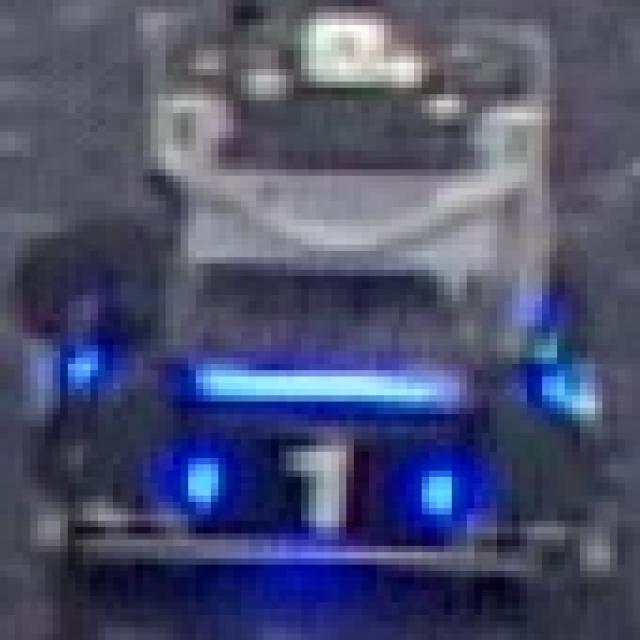B1: (181, 426, 467, 540)
